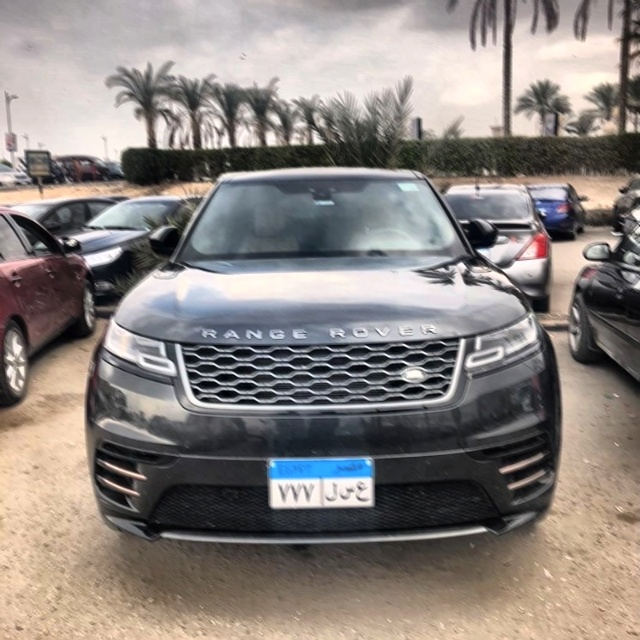License Plate: (268, 456, 374, 511)
